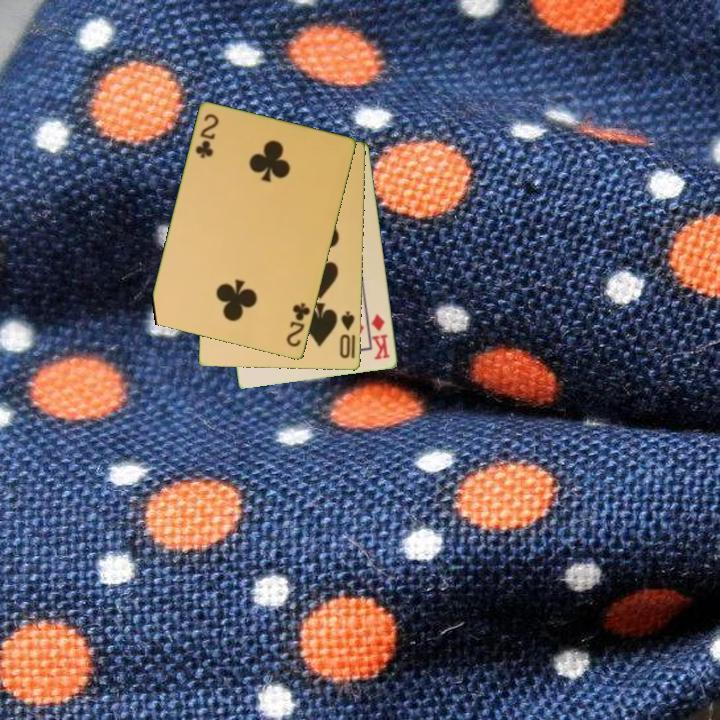10s: (337, 308, 357, 362)
2c: (192, 110, 222, 162), (283, 299, 313, 350)
Kd: (368, 310, 393, 363)
